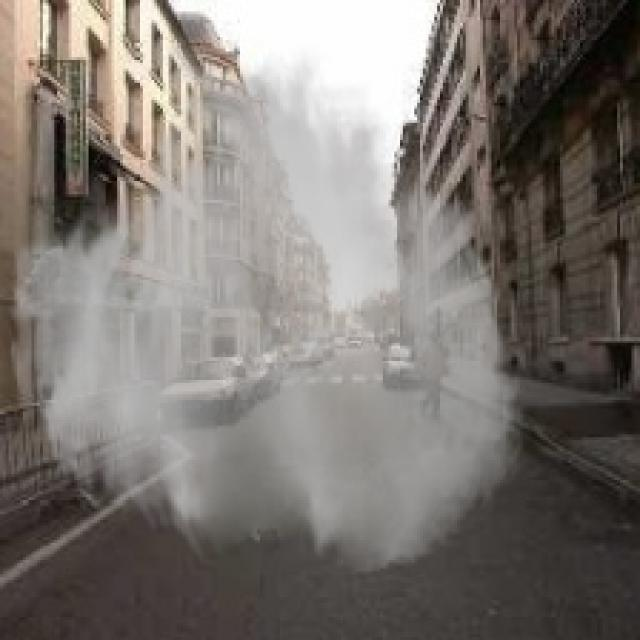Smoke: (2, 34, 528, 577)
